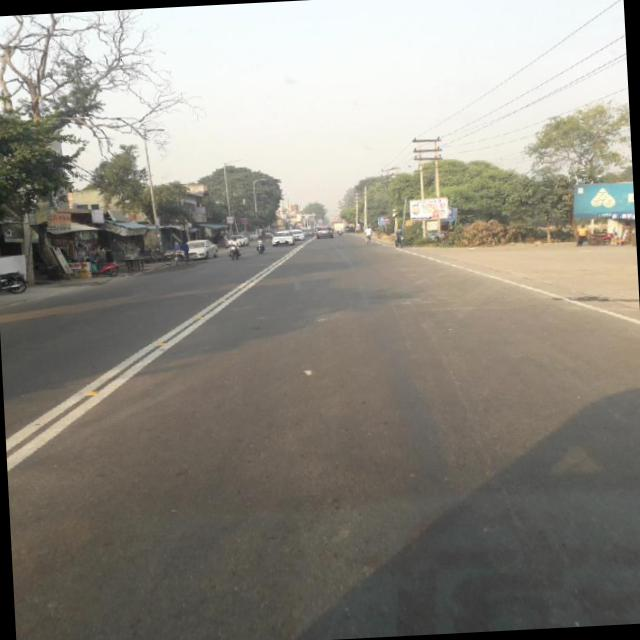crack: (414, 299, 528, 536)
